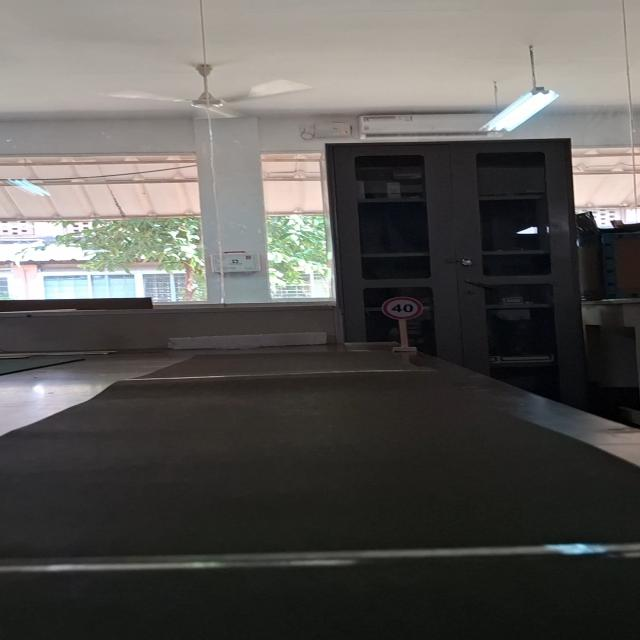Speed40: (381, 296, 423, 320)
